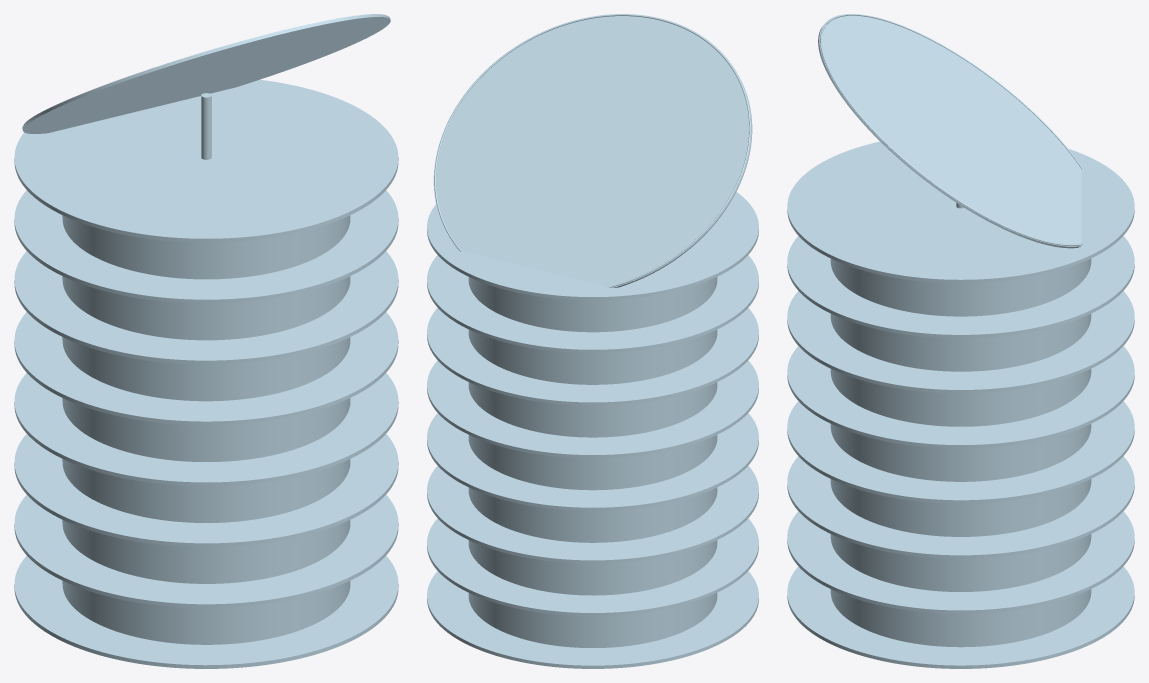
The model's file is tower_lod.glb.
3 renders of one model, left to right at view 1: azimuth 30°, elevation 25°; view 2: azimuth 150°, elevation 25°; view 3: azimuth 270°, elevation 25°, orthographic. The views are drawn at different scales.
Visible parts, largest first — view 1: LOD slab (×8), LOD facade, Solar disc, LOD column, Solar rim; view 2: LOD slab (×8), Solar disc, LOD facade, Solar rim; view 3: LOD slab (×8), LOD facade, Solar disc, Solar rim.
Part boxes in pixels (x1,y1,x2,y2): LOD slab (×8): (14, 79, 398, 668); LOD facade: (62, 215, 350, 644); Solar disc: (22, 14, 390, 133); LOD column: (201, 93, 211, 159); Solar rim: (24, 14, 385, 123); LOD slab (×8): (427, 192, 758, 668); Solar disc: (433, 14, 752, 287); LOD facade: (468, 277, 717, 647); Solar rim: (434, 14, 750, 287); LOD slab (×8): (787, 141, 1134, 668); LOD facade: (830, 258, 1091, 647); Solar disc: (818, 14, 1081, 248); Solar rim: (820, 14, 1083, 245).
Size of the model in its own units: 20 by 35.5 by 20.
